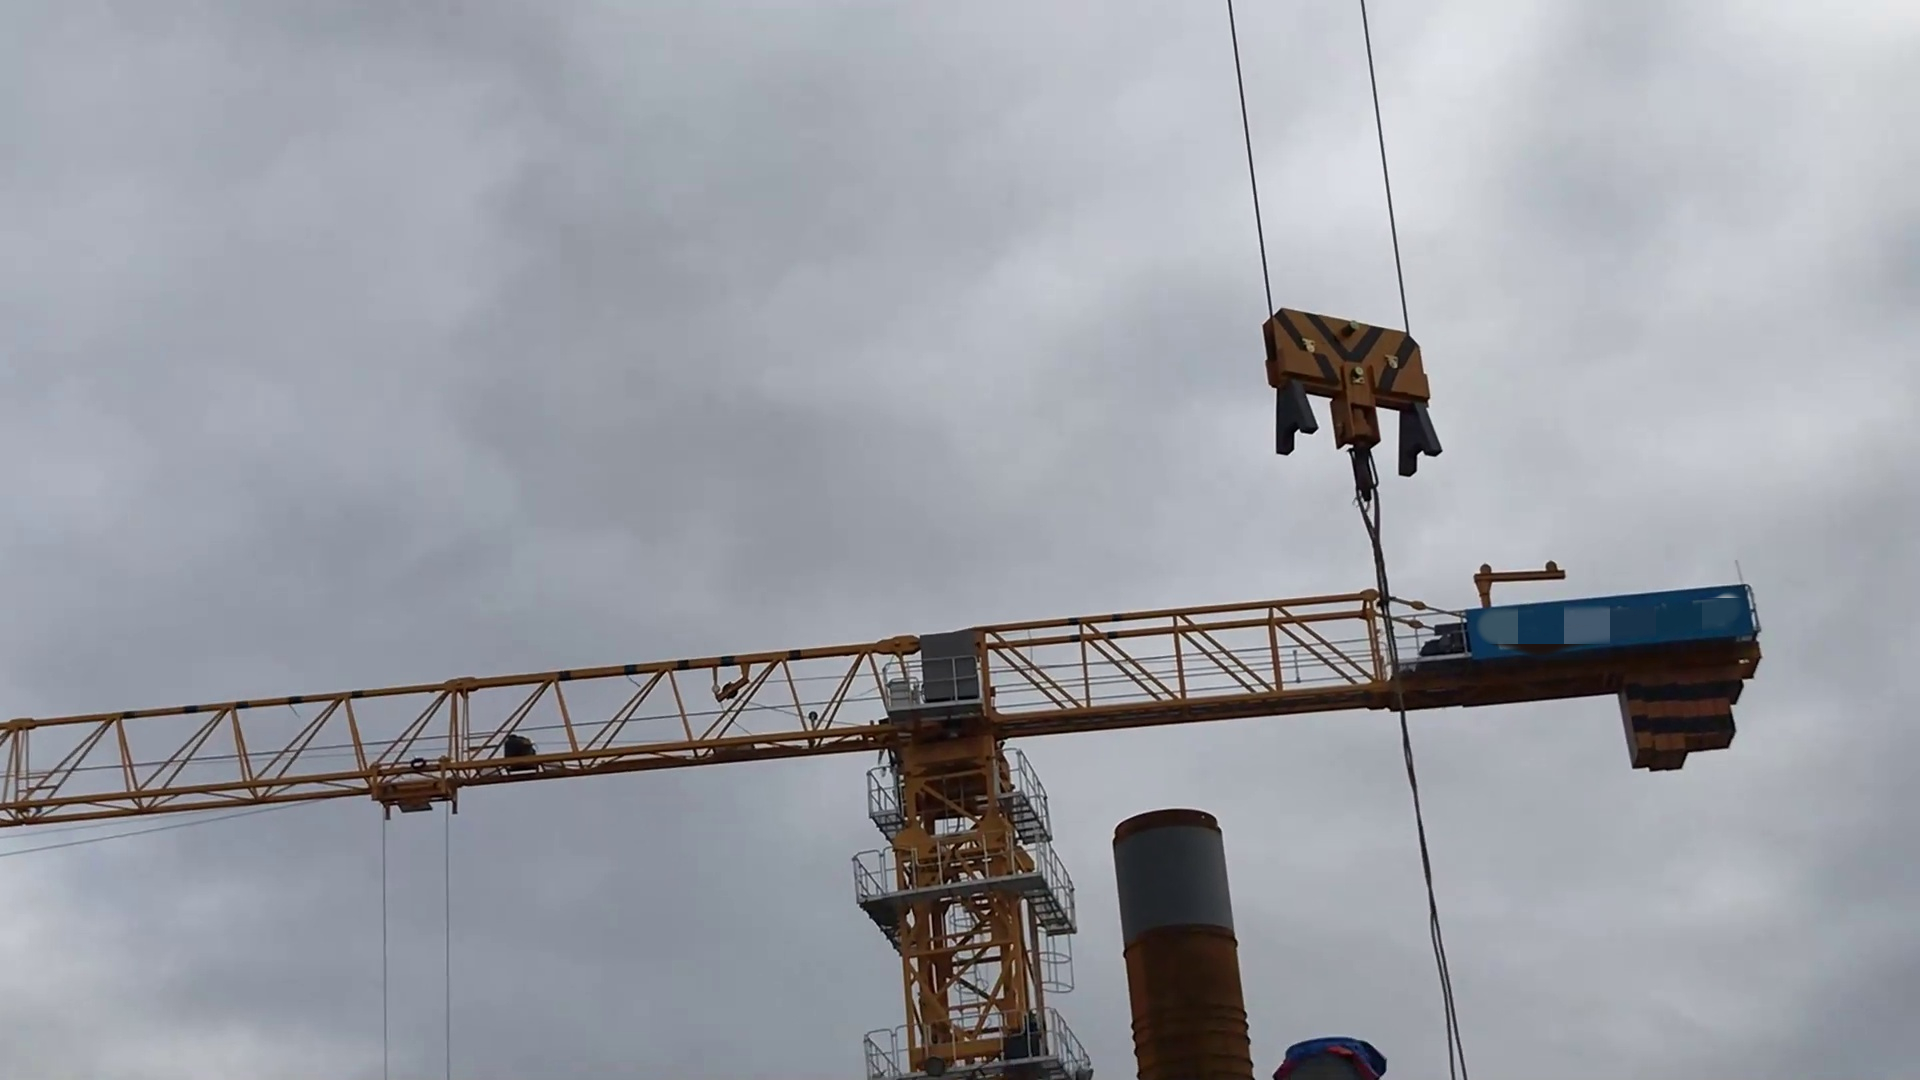hook: (1255, 302, 1449, 513)
